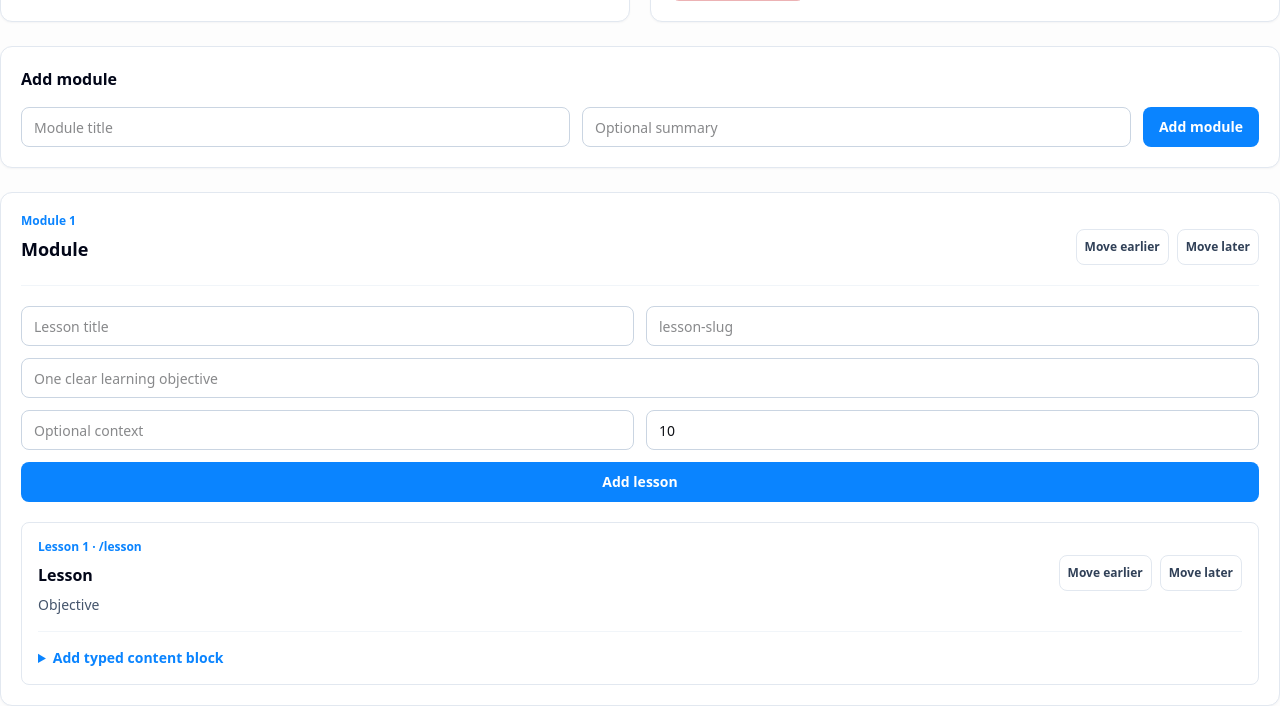
Test: AdminCourseEditor › exposes the structured fields required by the typed block editors
(page scrolled)
Click the heading "Add typed content block" at (138, 658), box [53, 648, 224, 667]
(page scrolled)
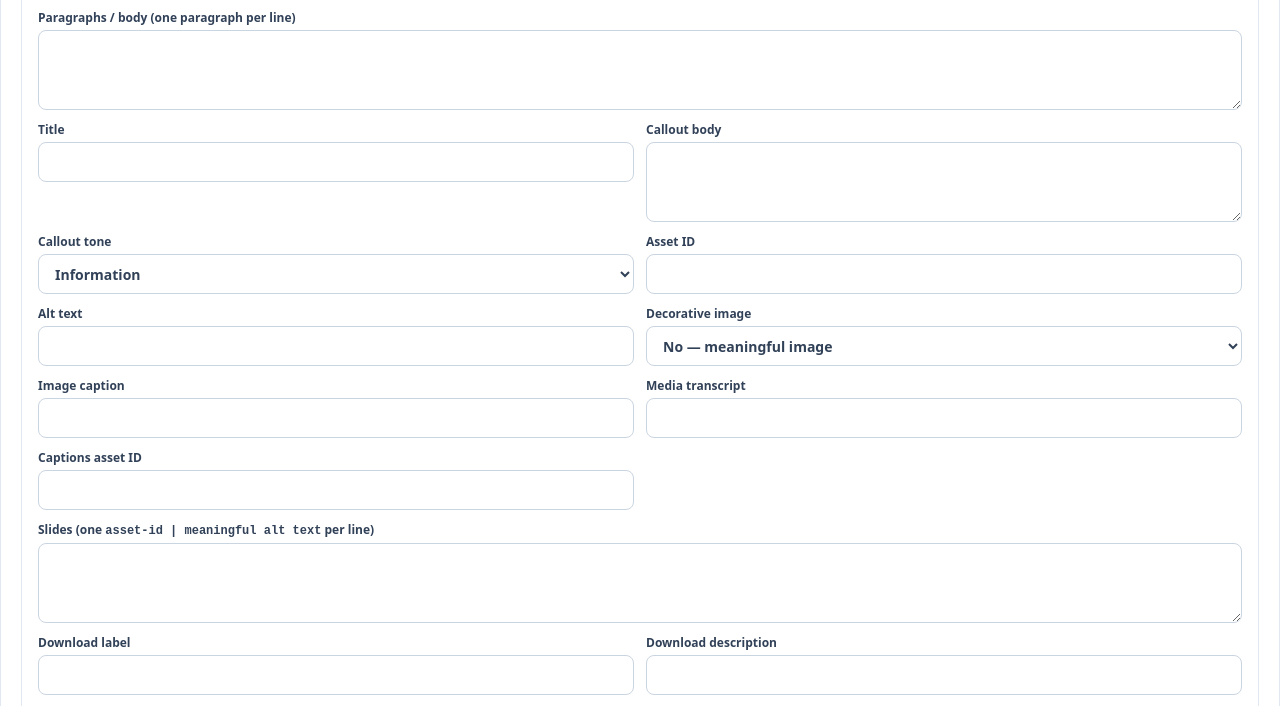
Check: the text box labelled "Callout body" is shown, box [646, 142, 1242, 222]
Check: the field labelled "Download description" is shown, box [646, 655, 1242, 695]
Check: the dropdown labelled "Decorative image" is shown, box [646, 326, 1242, 366]
